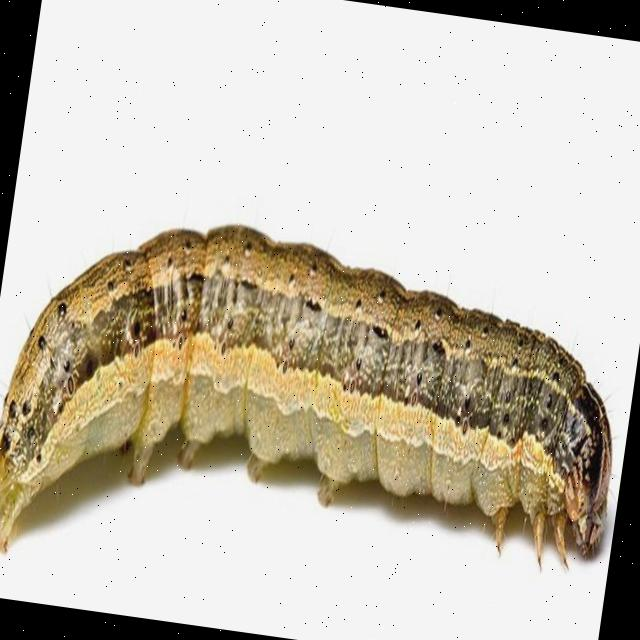worm: (1, 193, 640, 637)
